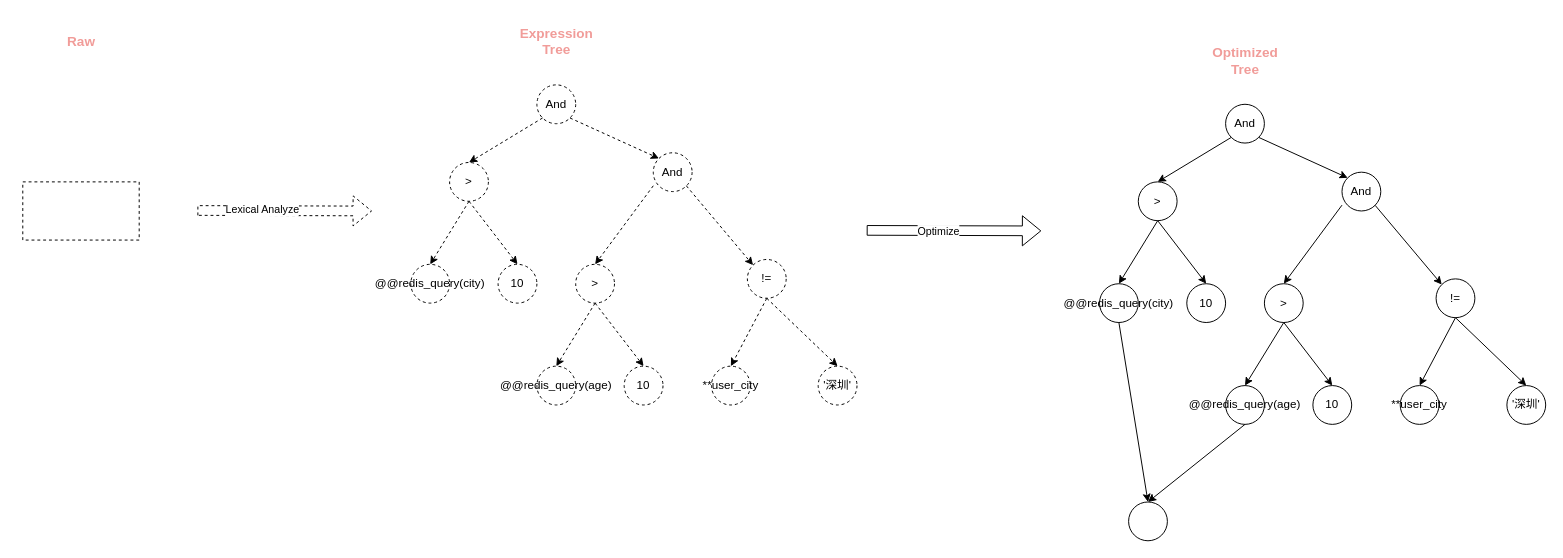
This 1563x558 diagram has some shape labels left out. The shapes that lost their labels are listed below. From the top down, each one's box as (x1, y1, x2, y2) in pixels, then its label:
(22, 181, 139, 240): @@redis_query('city')>10 and @@redis_query("age")>5 and **user_city!='深圳'
(1128, 501, 1167, 541): mget
